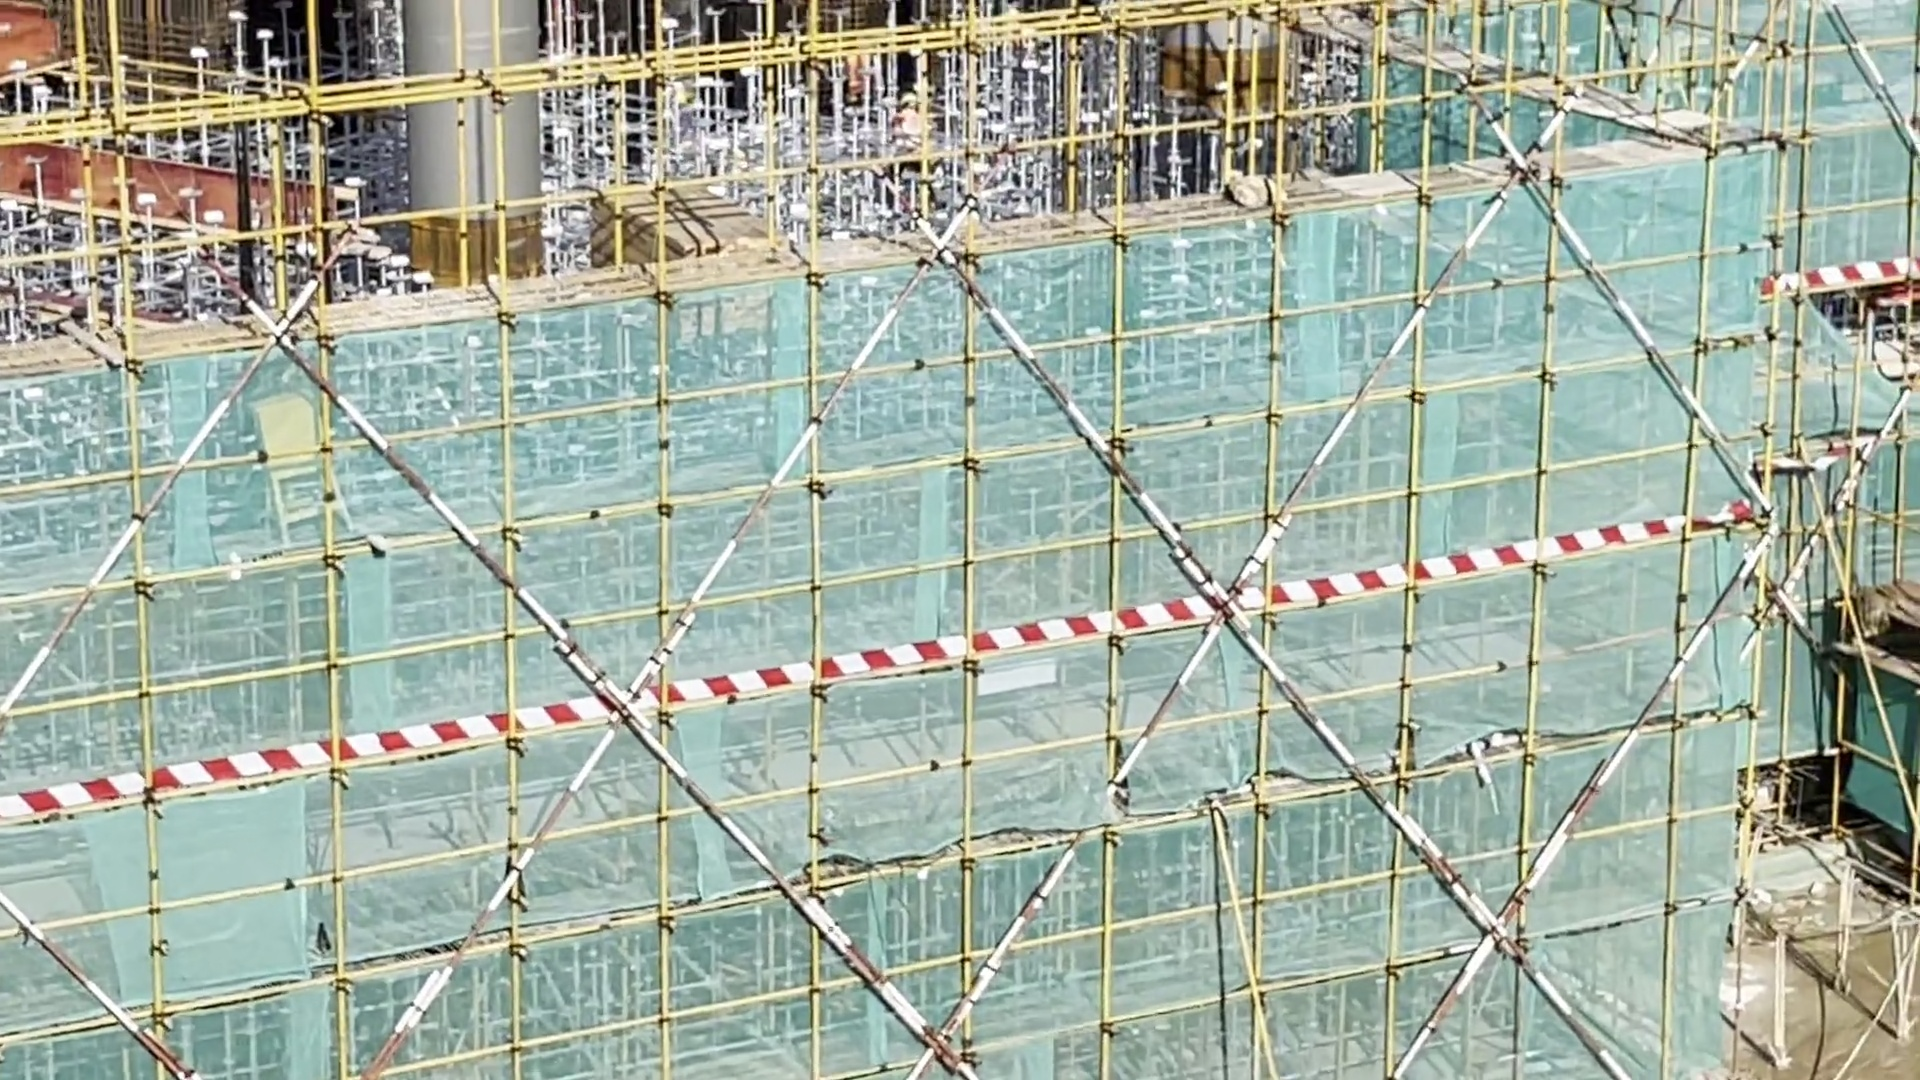ebox: (231, 392, 367, 531)
